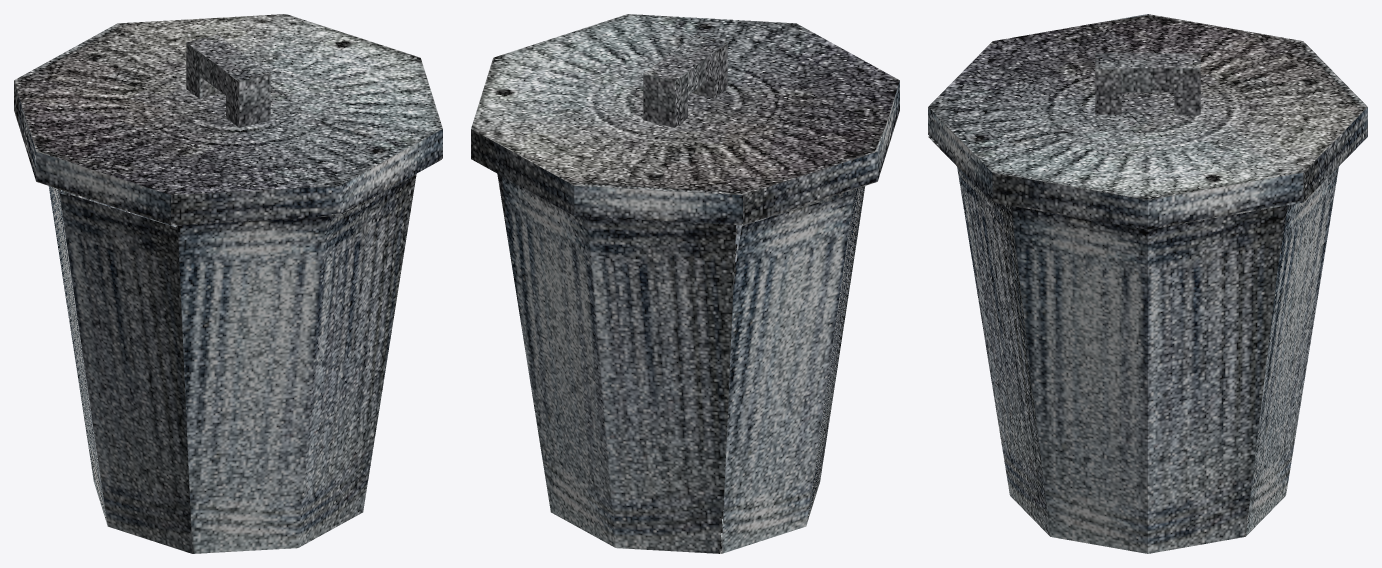
The model's file is trashcan(1).fbx.
3 views of the same model, side by side, from view 1: azimuth 30°, elevation 25°; view 2: azimuth 150°, elevation 25°; view 3: azimuth 270°, elevation 25° (orthographic).
Parts seen in each view (by area): view 1: Cylinder; view 2: Cylinder; view 3: Cylinder.
Boxes of the visible parts, left/top/right/bottom form: Cylinder: left=14, top=14, right=442, bottom=553; Cylinder: left=471, top=14, right=899, bottom=553; Cylinder: left=928, top=14, right=1367, bottom=553.
Bounding box in the file's own units: 226 × 246 × 226.
Materials: 1 (1 with a texture image).
